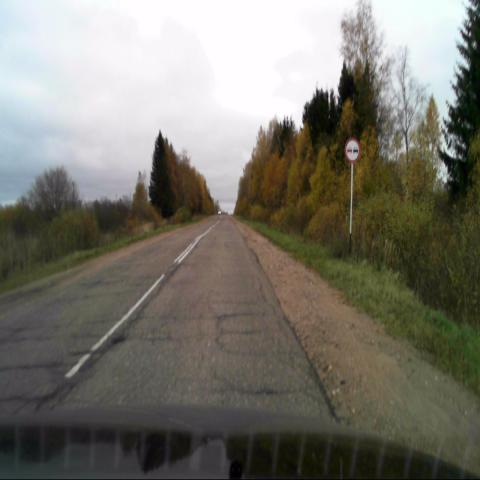3_20: (344, 137, 360, 162)
